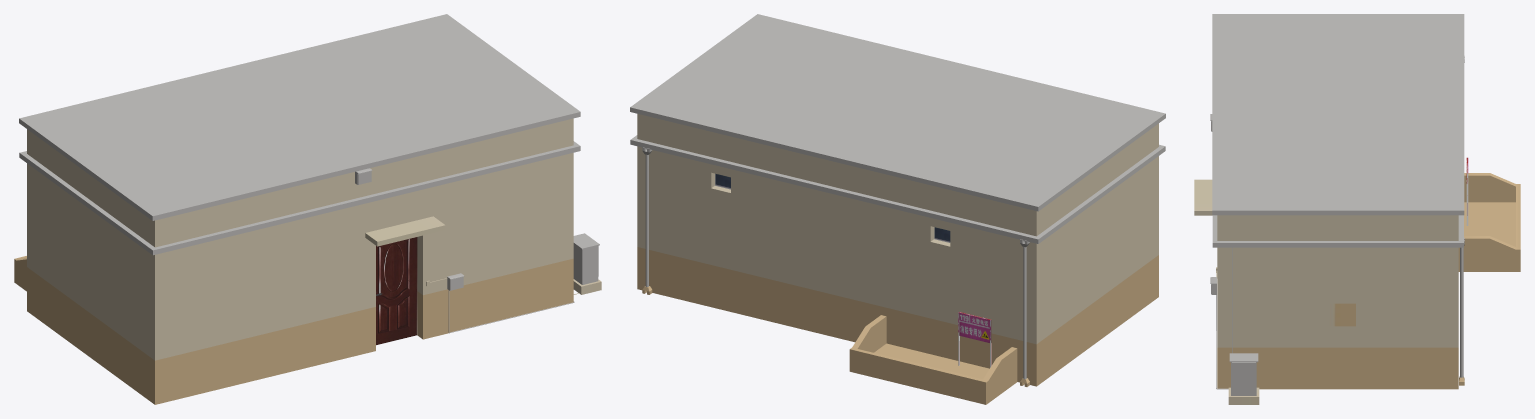
3 views of the same model, side by side, from view 1: azimuth 30°, elevation 25°; view 2: azimuth 150°, elevation 25°; view 3: azimuth 270°, elevation 25° (orthographic). The views are drawn at different scales.
Parts seen in each view (by area): view 1: Lo-Body_01; view 2: Lo-Body_01; view 3: Lo-Body_01.
Part boxes in pixels (box(x1,y1,x2,y2)): Lo-Body_01: box(14, 14, 601, 404); Lo-Body_01: box(630, 14, 1165, 404); Lo-Body_01: box(1194, 14, 1520, 404).
Bounding box in the file's own units: 9.73 × 3.9 × 6.38.
Materials: 4 (4 with a texture image).
